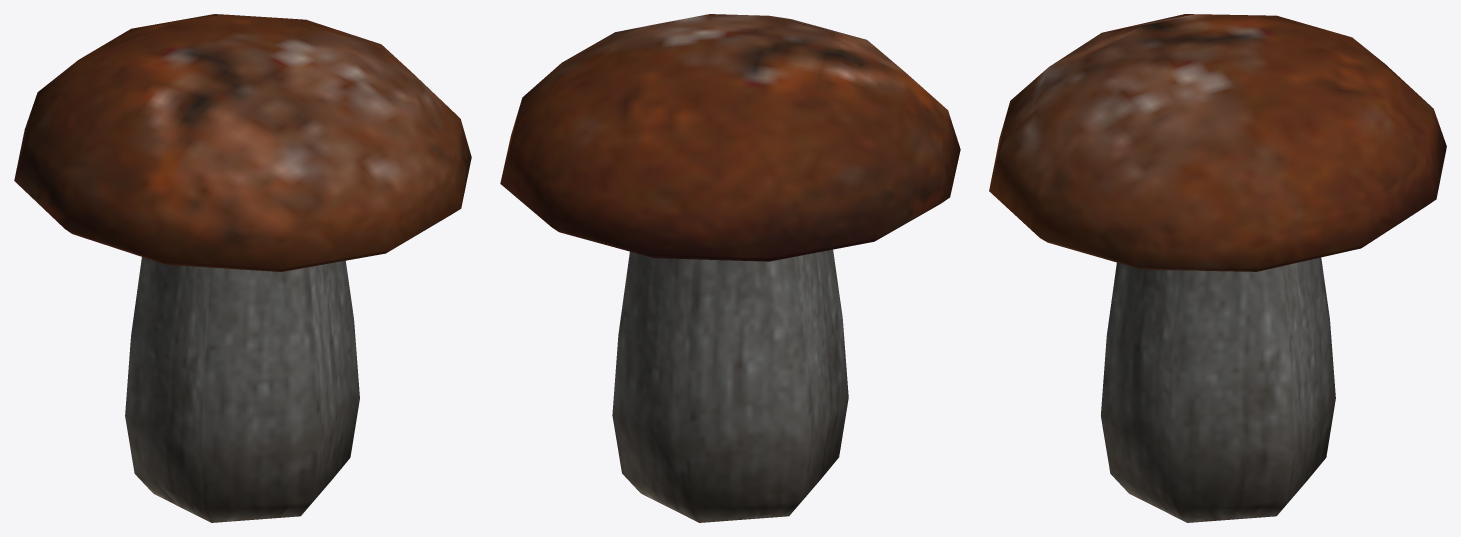
Rendered from mushroom_n_1.dae.
3 renders of one model, left to right at view 1: azimuth 30°, elevation 25°; view 2: azimuth 150°, elevation 25°; view 3: azimuth 270°, elevation 25°, orthographic.
Visible parts, largest first — view 1: mushroom_n_1; view 2: mushroom_n_1; view 3: mushroom_n_1.
Part boxes in pixels (box(x1,y1,x2,y2)): mushroom_n_1: box(14, 14, 471, 522); mushroom_n_1: box(500, 14, 960, 522); mushroom_n_1: box(989, 14, 1446, 522).
Size of the model in its own units: 0.2729 by 0.2729 by 0.288.
1 material, 1 textured.
